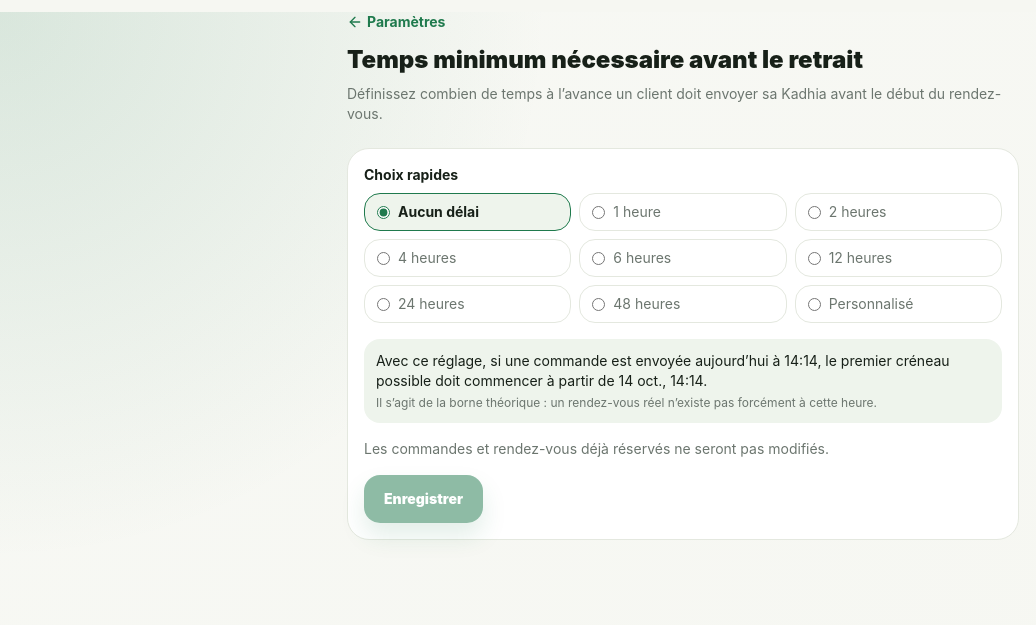
MerchantOrderingPolicyPage (ORDER-LEAD-003) › saves a preset value and shows the persisted state
The width and height of the screenshot is (1036, 625).
expect the button "Enregistrer" is shown: met, box [364, 475, 483, 523]
What coordinates should you click on to do the following:
click the radio button labelled "12 heures"
I would click on:
 (814, 258)
Its box is [808, 252, 821, 264].
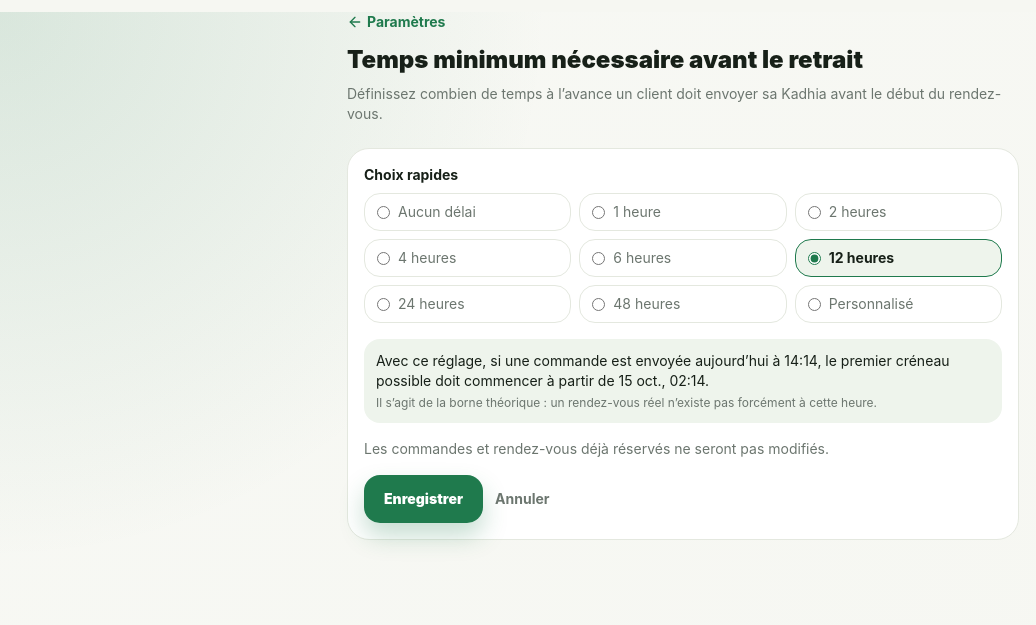
expect the button "Enregistrer" is enabled: met
What coordinates should you click on to do the following:
click the button "Enregistrer"
I would click on:
 (424, 499)
Its box is [364, 475, 483, 523].
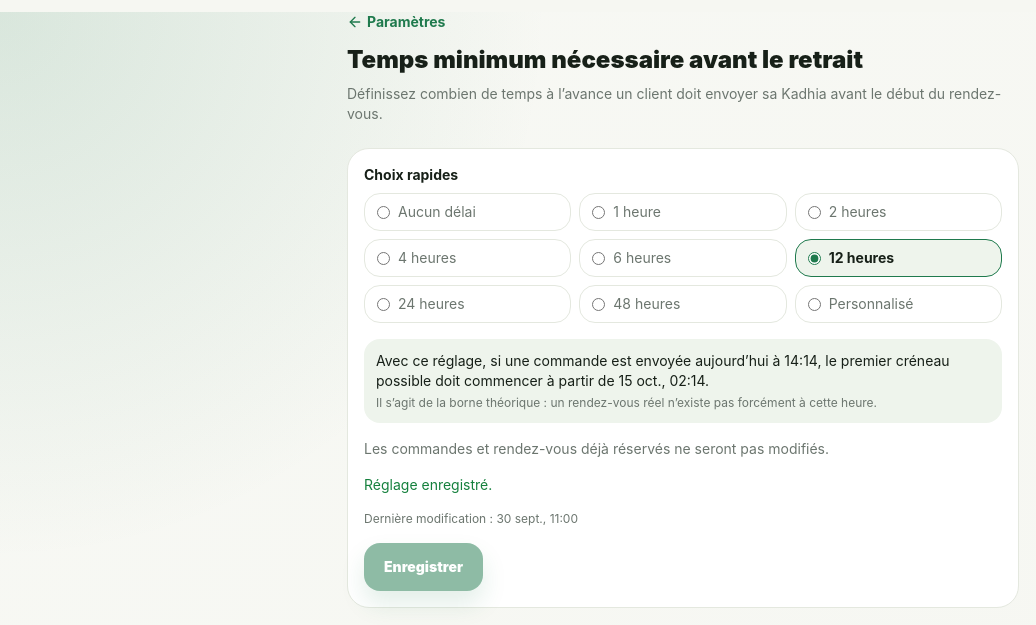
expect the text "Réglage enregistré." is shown: met, box [364, 476, 492, 493]
expect the text "Dernière modification : 30 sept., 11:00" is shown: met, box [364, 511, 578, 526]
expect the button "Enregistrer" is disabled: met, box [364, 543, 483, 591]
